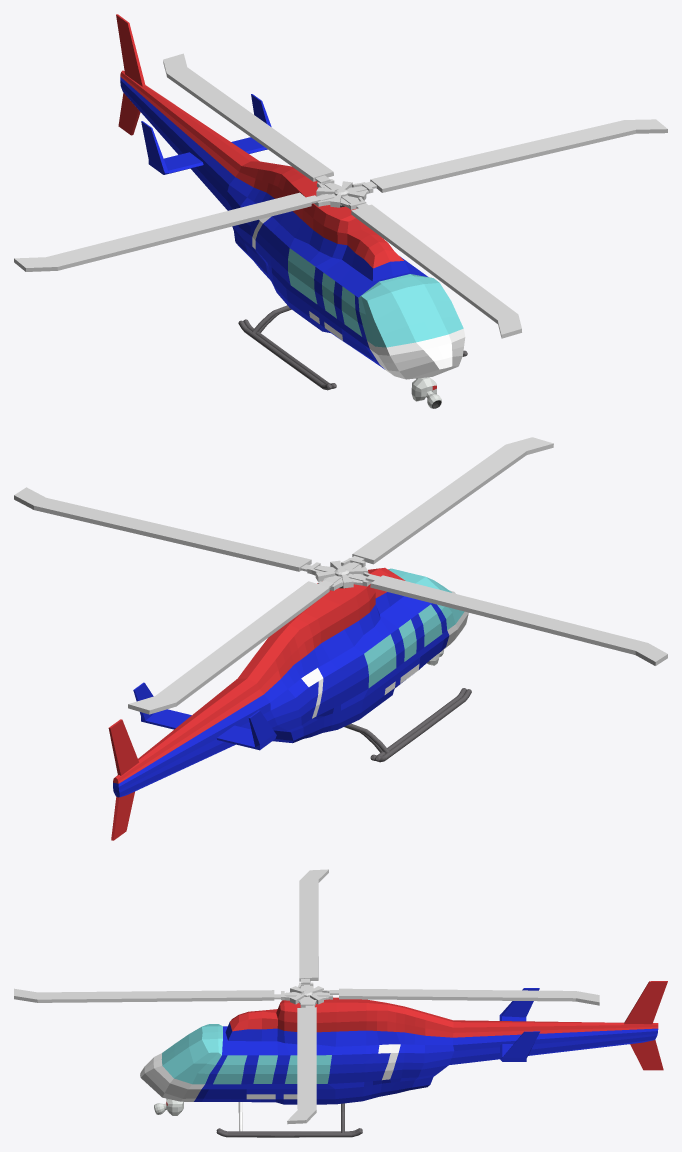
File: helicopter2.glb
3 views of the same model, one above another, from view 1: azimuth 30°, elevation 25°; view 2: azimuth 150°, elevation 25°; view 3: azimuth 270°, elevation 25° (orthographic). The views are drawn at different scales.
Visible parts, largest first — view 1: Plane.002, main rotor, window; view 2: Plane.002, main rotor, window; view 3: Plane.002, main rotor, window.
Part boxes in pixels (<box>): Plane.002: <box>116,14,467,408</box>; main rotor: <box>14,53,667,338</box>; window: <box>288,248,463,347</box>; Plane.002: <box>108,567,471,840</box>; main rotor: <box>14,437,667,714</box>; window: <box>364,568,464,687</box>; Plane.002: <box>140,981,667,1137</box>; main rotor: <box>14,869,599,1124</box>; window: <box>161,1024,331,1084</box>.
Size of the model in its own units: 15.32 by 3.81 by 17.11.
